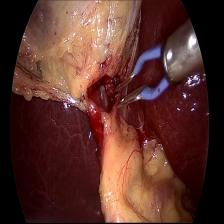Bipolar: (110, 24, 196, 114)
